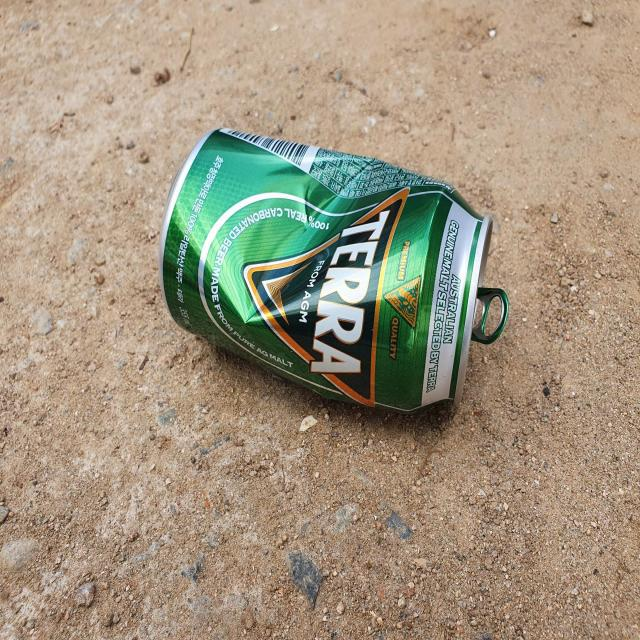can: (159, 127, 509, 412)
